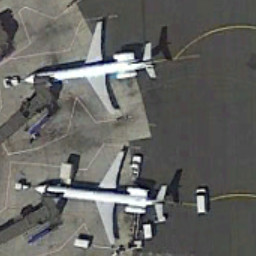Airplane: (30, 143, 176, 253), (19, 16, 163, 119)
